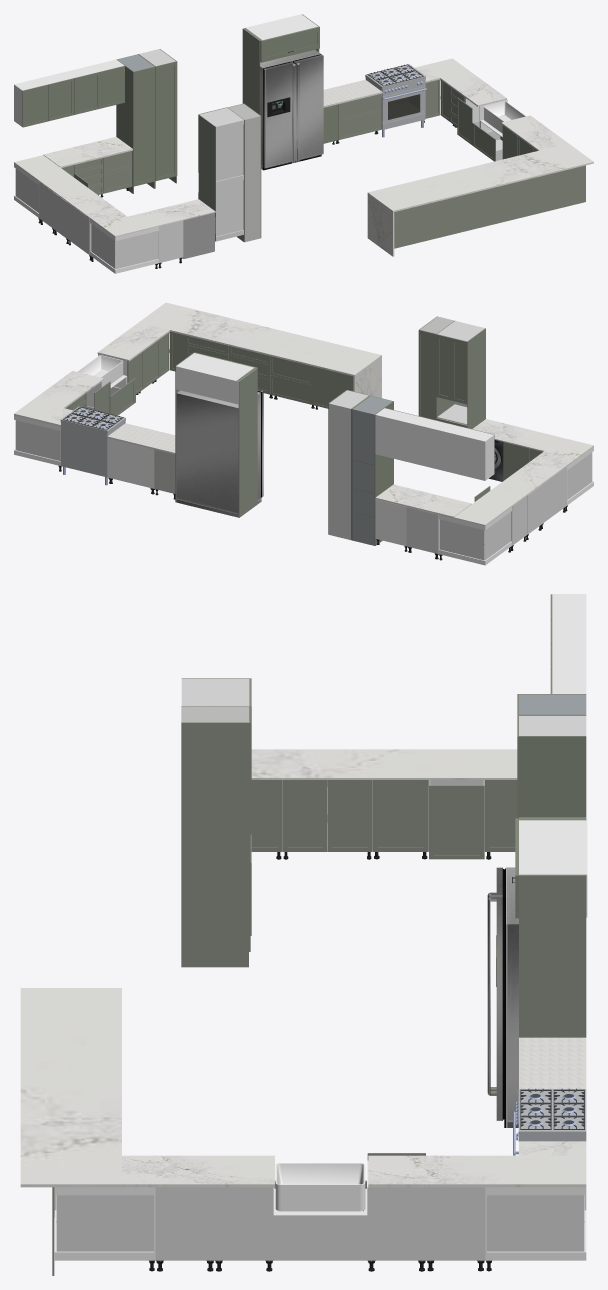
Rendered from Analise_V2.glb.
The picture shows the model from 3 angles, top to bottom: view 1: azimuth 30°, elevation 25°; view 2: azimuth 150°, elevation 25°; view 3: azimuth 270°, elevation 25°; orthographic projection. The views are drawn at different scales.
Parts seen in each view (by area): view 1: G-Object.019, _C-Double Door Fridge (Loose Mesh), G-Object.014, G-Object.043, G-Object.078, G-Object.037, G-Object.005, G-Object.052, G-Object.027, G-Object.016, G-Object.076, G-Object.011 (+37 smaller); view 2: _C-Double Door Fridge (Loose Mesh), G-Object.014, G-Object.043, G-Object.006, G-Object.052, G-Object.038, G-Object.012, C-WallBack720#2, C-WallBack720#2.001, G-Object.016, C-FloorBack720#2.001, G-Object.076 (+45 smaller); view 3: G-Object.014, G-Object.025, G-Object.013, G-Object.043, G-Object.016, _C-Double Door Fridge (Loose Mesh), G-Object.039, C-back1.002, C-back2.003, G-Object.015, C-FloorBack.004, C-FloorBack.005 (+25 smaller).
Boxes of the visible parts, x1=… form: G-Object.019: x1=394, y1=165, x2=585, y2=248; _C-Double Door Fridge (Loose Mesh): x1=259, y1=49, x2=323, y2=170; G-Object.014: x1=367, y1=143, x2=593, y2=212; G-Object.043: x1=14, y1=155, x2=144, y2=237; G-Object.078: x1=216, y1=119, x2=243, y2=236; G-Object.037: x1=155, y1=61, x2=177, y2=181; G-Object.005: x1=133, y1=66, x2=155, y2=186; G-Object.052: x1=365, y1=64, x2=425, y2=129; G-Object.027: x1=245, y1=116, x2=260, y2=241; G-Object.016: x1=423, y1=58, x2=506, y2=106; G-Object.076: x1=198, y1=114, x2=215, y2=241; G-Object.011: x1=43, y1=137, x2=132, y2=167; _C-Double Door Fridge (Loose Mesh): x1=176, y1=389, x2=263, y2=517; G-Object.014: x1=139, y1=302, x2=381, y2=376; G-Object.043: x1=454, y1=438, x2=593, y2=525; G-Object.006: x1=352, y1=409, x2=374, y2=545; G-Object.052: x1=60, y1=406, x2=125, y2=477; G-Object.038: x1=329, y1=403, x2=350, y2=539; G-Object.012: x1=238, y1=368, x2=257, y2=517; C-WallBack720#2: x1=375, y1=415, x2=430, y2=467; C-WallBack720#2.001: x1=430, y1=428, x2=485, y2=480; G-Object.016: x1=14, y1=371, x2=103, y2=422; C-FloorBack720#2.001: x1=107, y1=438, x2=154, y2=488; G-Object.076: x1=467, y1=328, x2=485, y2=428; G-Object.014: x1=20, y1=988, x2=121, y2=1187; G-Object.025: x1=181, y1=722, x2=248, y2=967; G-Object.013: x1=519, y1=874, x2=586, y2=1037; G-Object.043: x1=251, y1=749, x2=517, y2=779; G-Object.016: x1=368, y1=1155, x2=586, y2=1187; _C-Double Door Fridge (Loose Mesh): x1=487, y1=867, x2=518, y2=1127; G-Object.039: x1=519, y1=736, x2=586, y2=817; C-back1.002: x1=487, y1=1195, x2=583, y2=1251; C-back2.003: x1=57, y1=1195, x2=153, y2=1251; G-Object.015: x1=122, y1=1155, x2=274, y2=1187; C-FloorBack.004: x1=426, y1=1187, x2=485, y2=1260; C-FloorBack.005: x1=367, y1=1187, x2=426, y2=1260.
Size of the model in its own units: 9.02 by 2.63 by 5.04.
53 materials, 8 textured.
